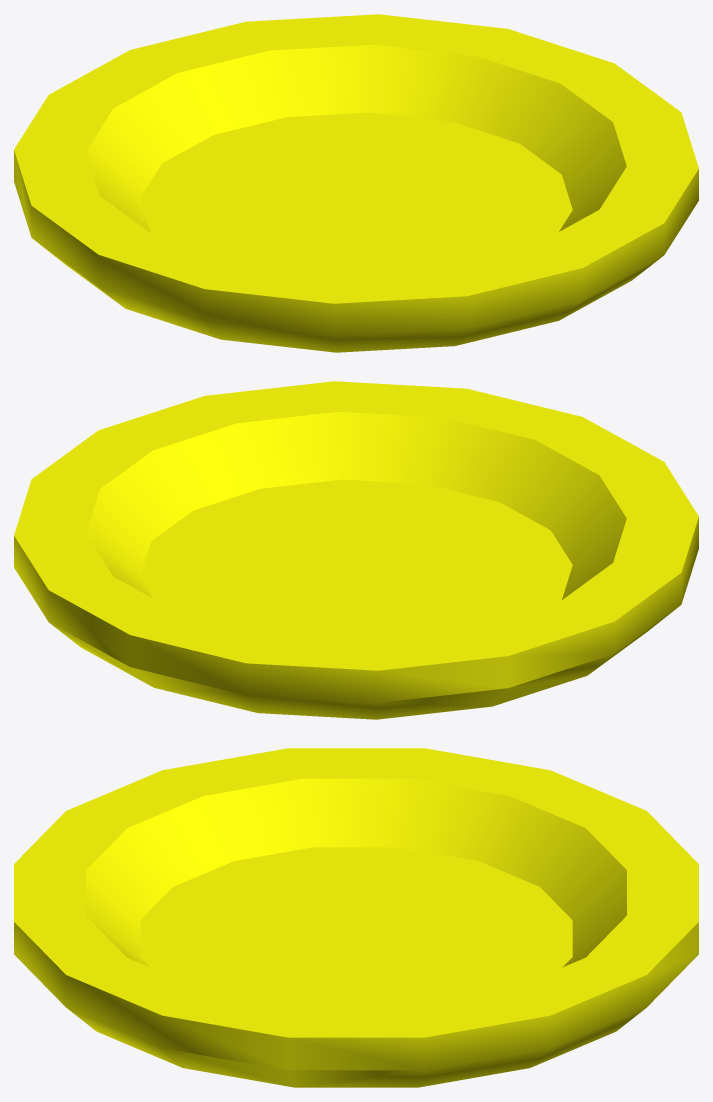
Rendered from kaykit-plate-red.glb.
3 views of the same model, one above another, from view 1: azimuth 30°, elevation 25°; view 2: azimuth 150°, elevation 25°; view 3: azimuth 270°, elevation 25° (orthographic).
Visible parts, largest first — view 1: plate_red; view 2: plate_red; view 3: plate_red.
Part boxes in pixels (left/top/right/bottom): plate_red: left=14, top=14, right=698, bottom=352; plate_red: left=14, top=381, right=698, bottom=719; plate_red: left=14, top=748, right=698, bottom=1087.
Bounding box in the file's own units: 0.95 × 0.1 × 0.95.
